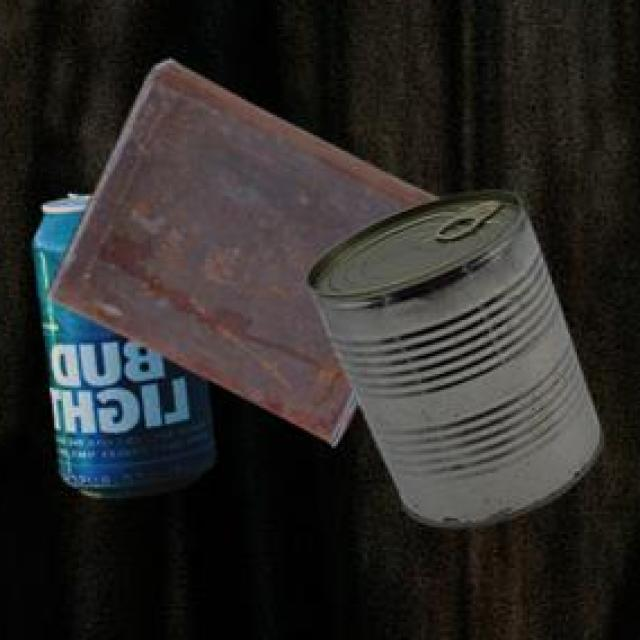logam: (44, 62, 436, 450), (303, 195, 598, 531), (30, 197, 213, 501)
